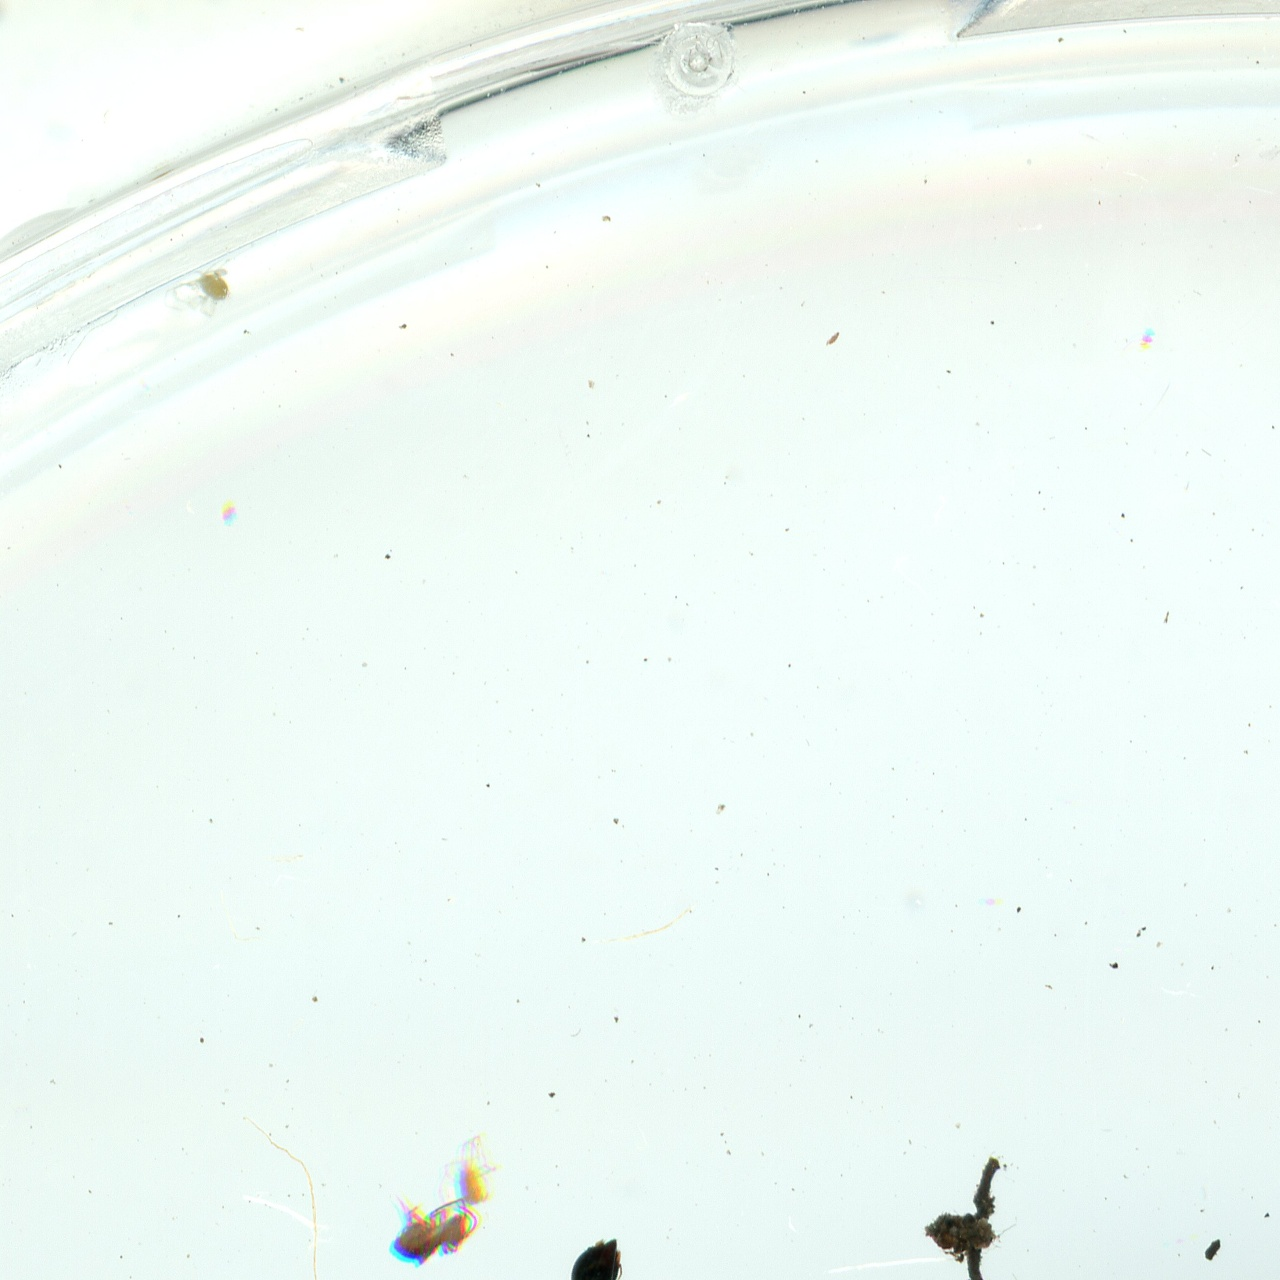arthropod: (386, 1189, 485, 1272), (434, 1131, 504, 1219), (159, 264, 232, 322), (568, 1237, 625, 1280)
